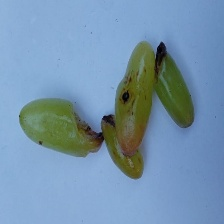grapes: (48, 39, 201, 191)
